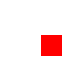square: (41, 35, 61, 55)
